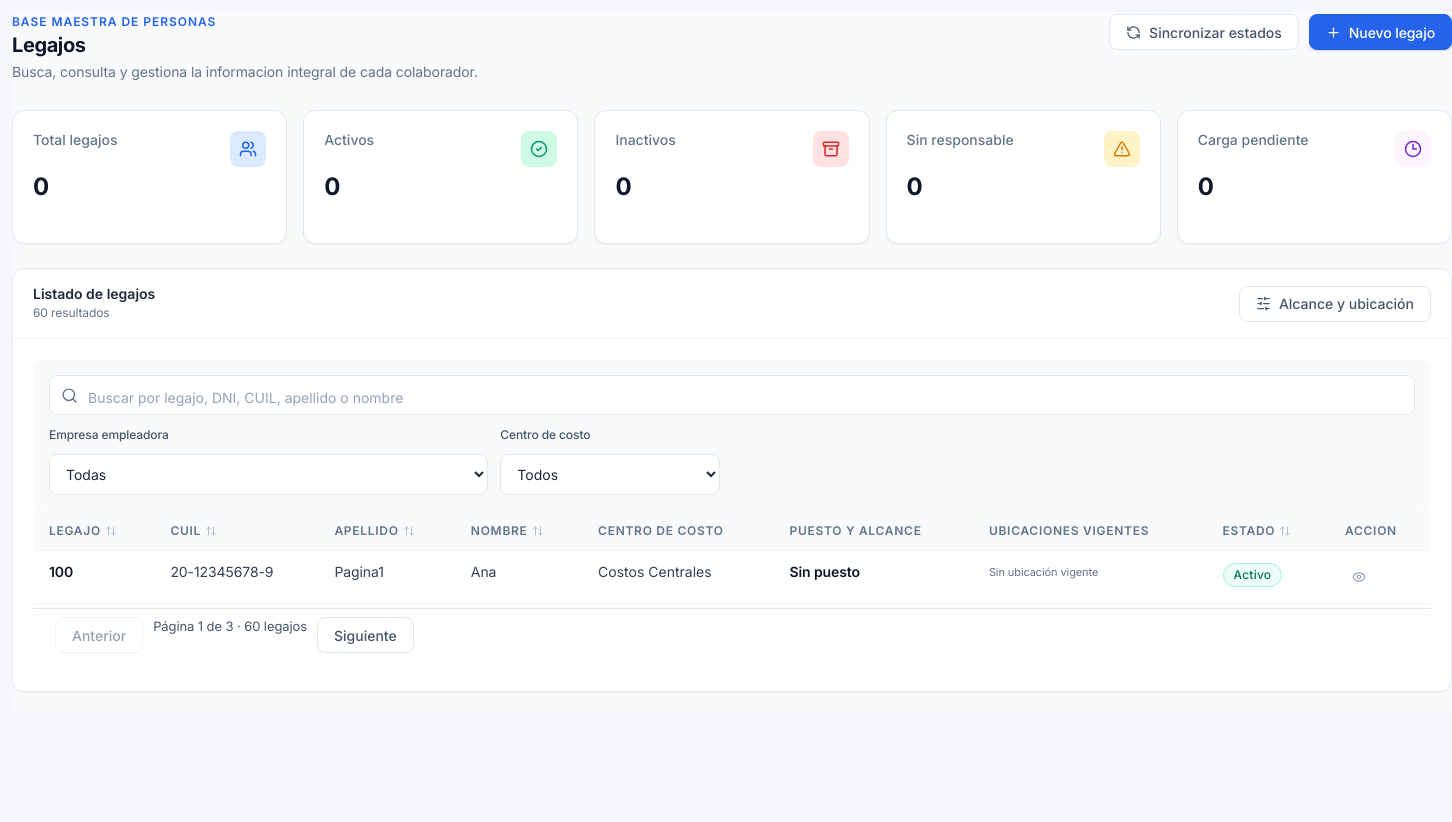
Scenario: EmployeesPage — orden server-side › cambiar el orden estando en la página 2 vuelve a la página 1; paginar después conserva el orden
Check: the text "Pagina1" is shown, box 318,551 -> 455,604
Click the button "Siguiente": (365, 635) 317,617 -> 414,653
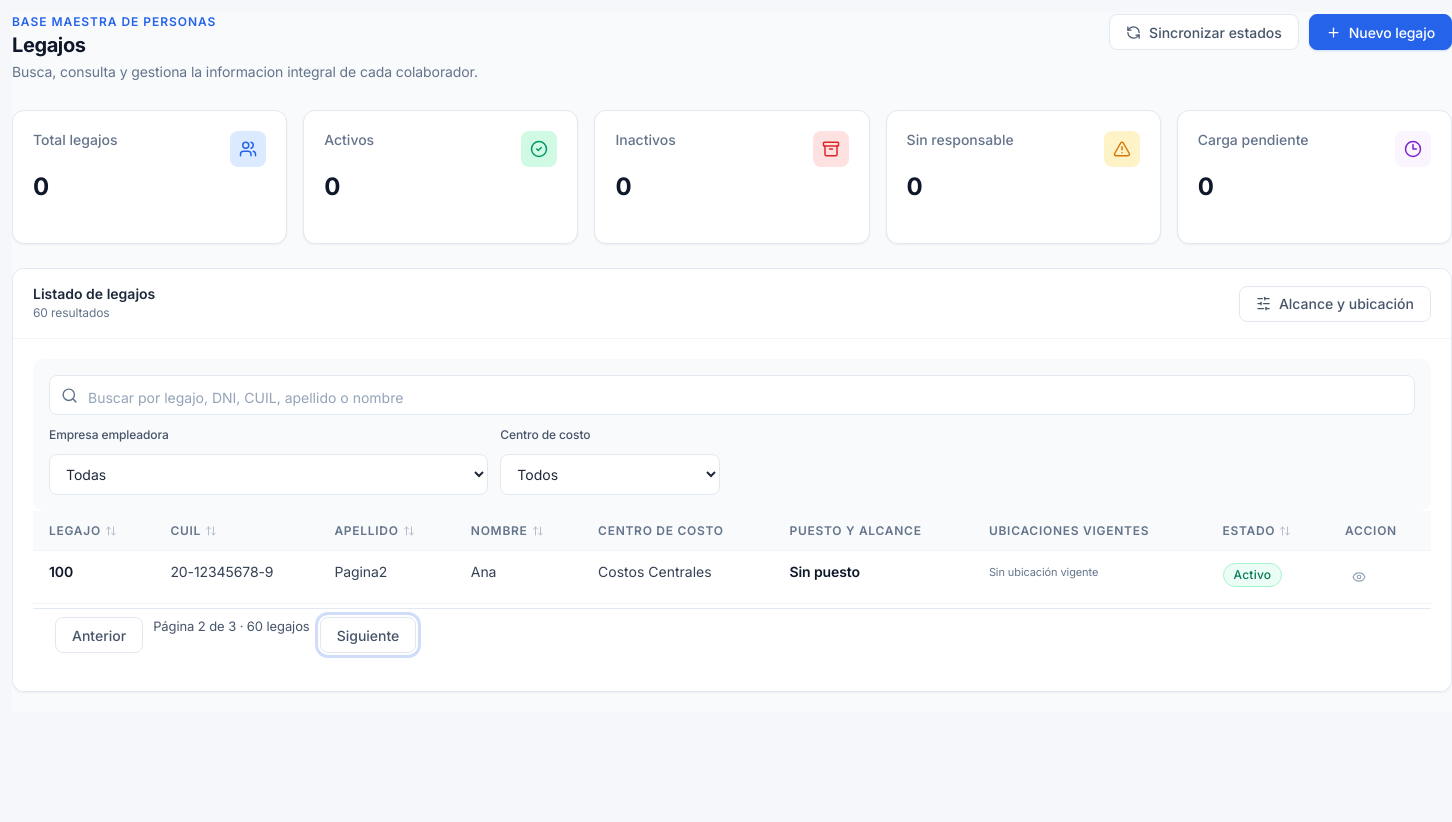
Check: the text "Pagina2" is shown, box 318,551 -> 455,604
Click the button "Legajo": (83, 531) 49,523 -> 117,538
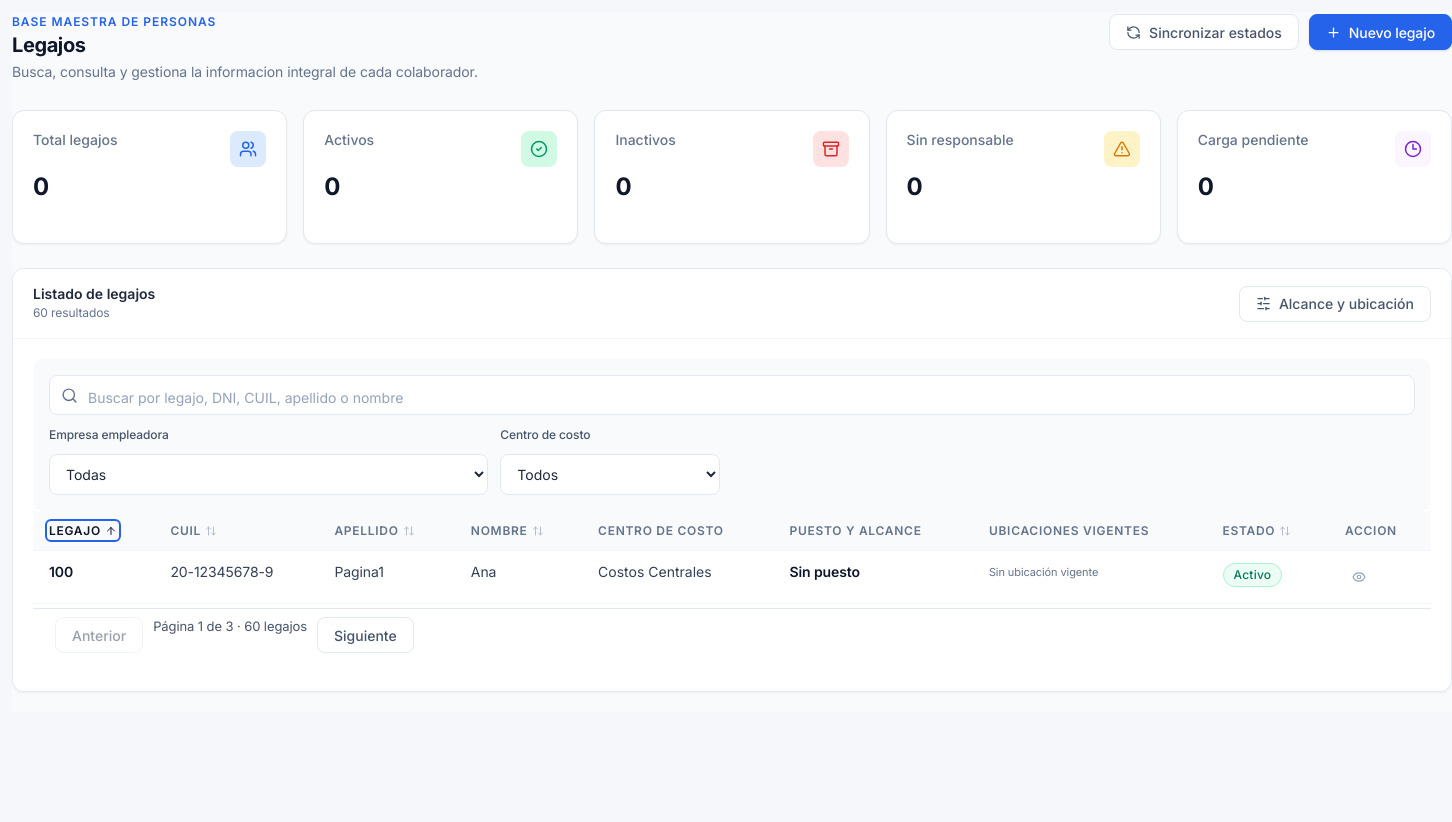
Check: the text "Pagina1" is shown, box 318,551 -> 455,604
Check: the text "Página 1 de 3 · 60 legajos" is shown, box 153,618 -> 307,634
Click the button "Siguiente": (365, 635) 317,617 -> 414,653
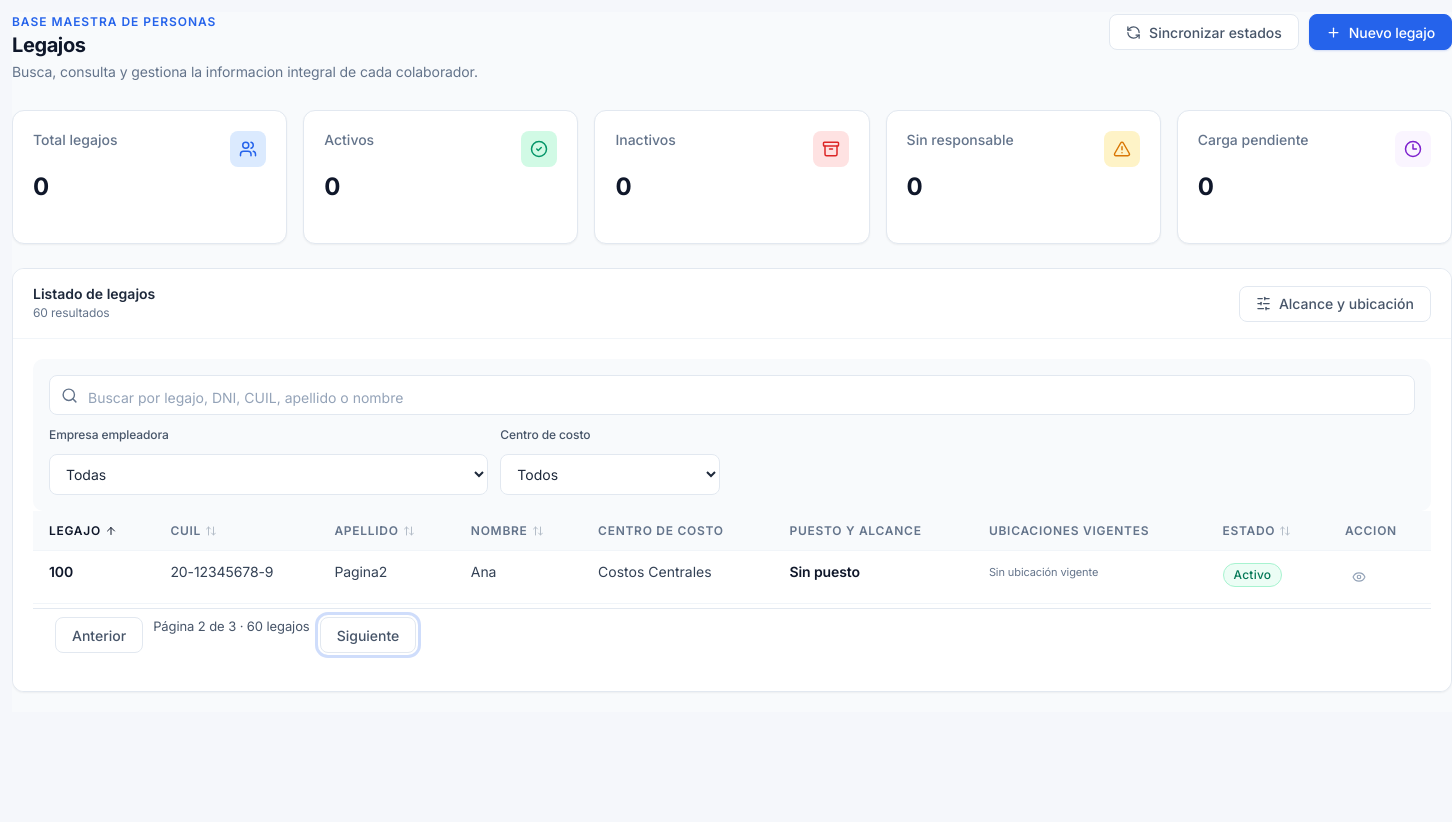
Check: the text "Pagina2" is shown, box 318,551 -> 455,604
